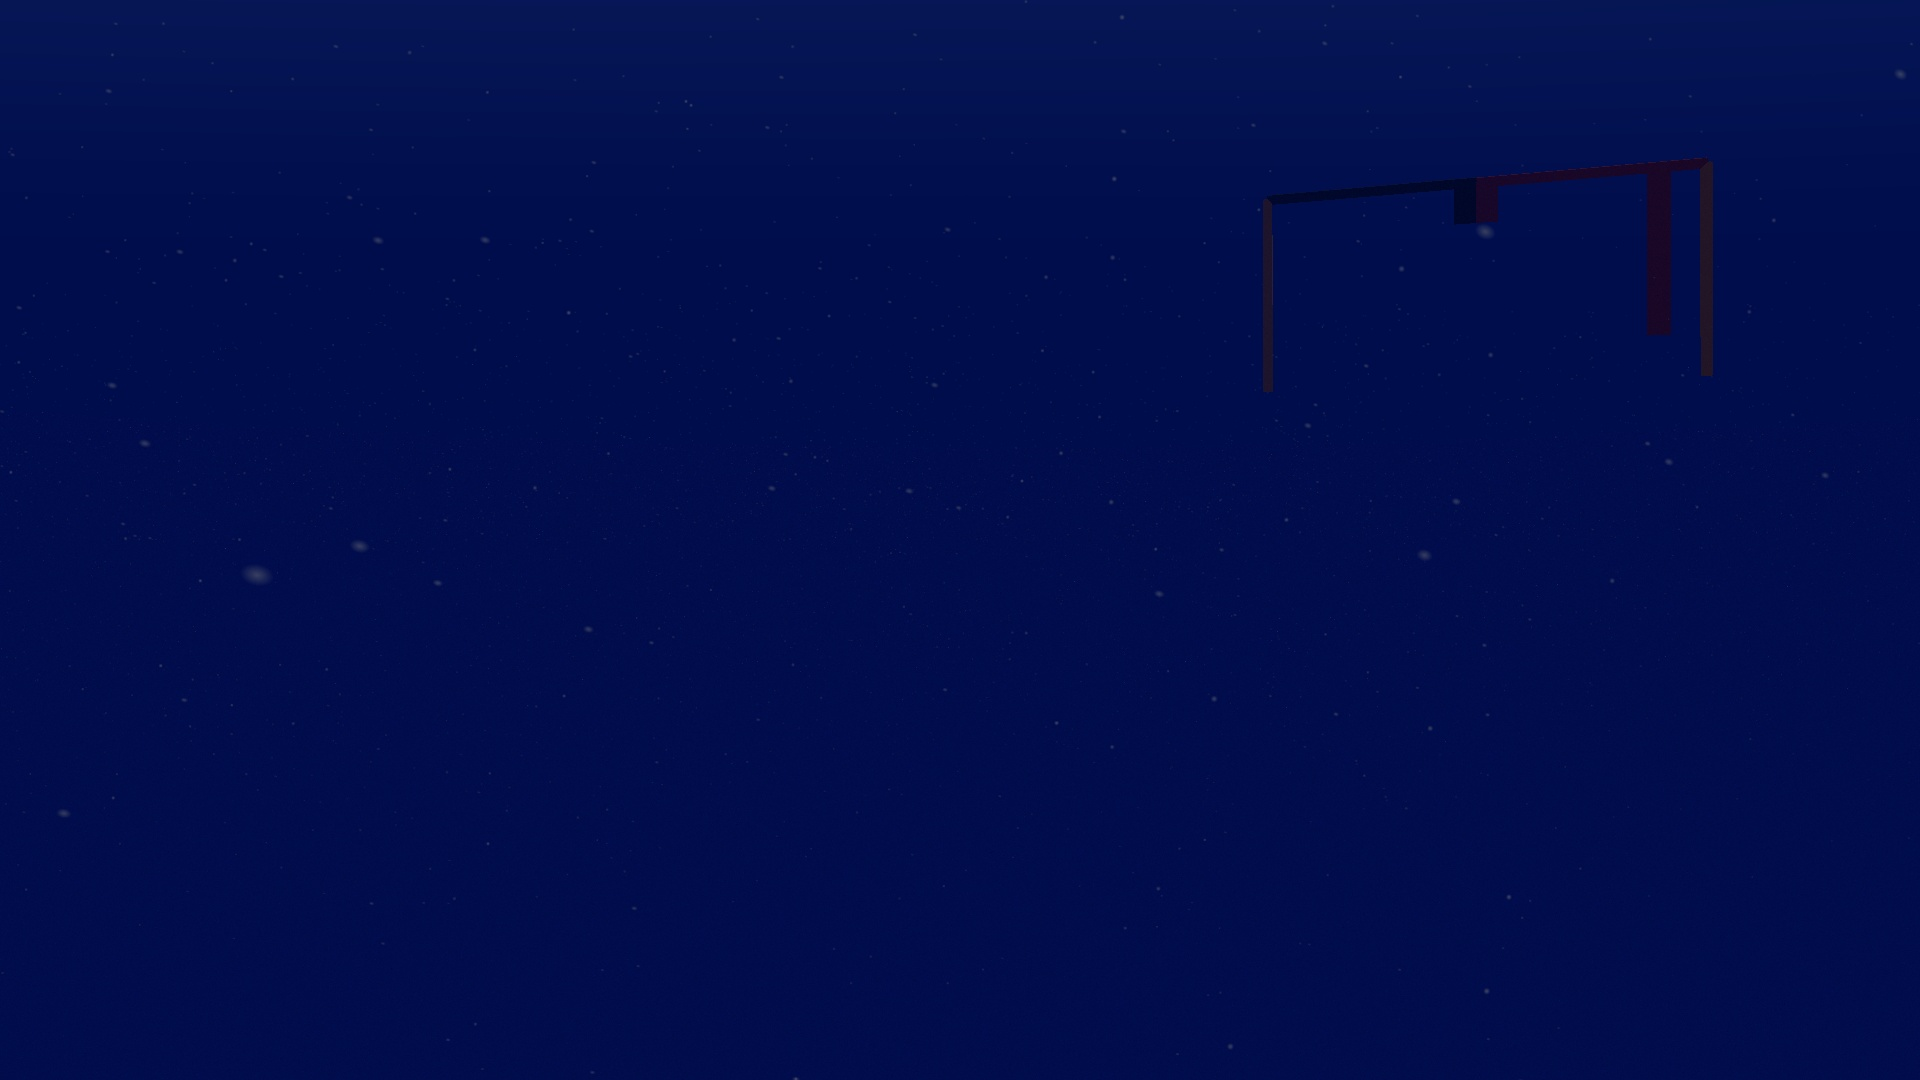Gate: (1257, 152, 1729, 402)
